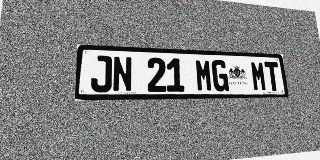1: (166, 58, 184, 92)
2: (147, 57, 166, 92)
G: (211, 60, 229, 91)
J: (90, 55, 112, 92)
M: (195, 59, 213, 92), (250, 61, 267, 91)
N: (112, 56, 132, 92)
T: (264, 62, 281, 91)
